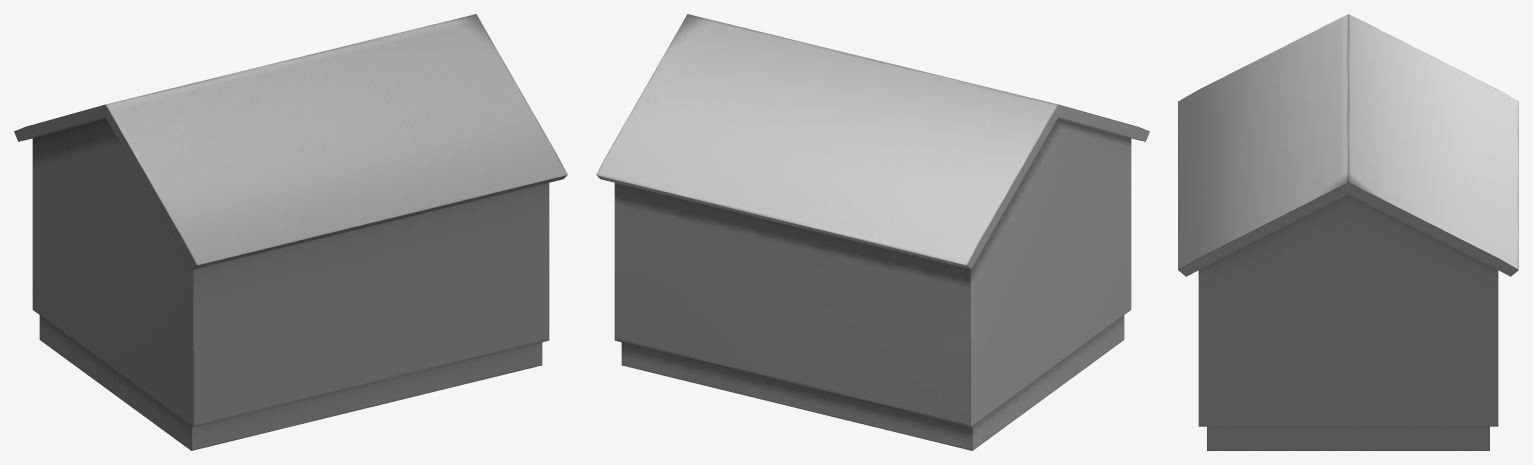
The model's file is GrayBoxHouse.FBX.
3 views of the same model, side by side, from view 1: azimuth 30°, elevation 25°; view 2: azimuth 150°, elevation 25°; view 3: azimuth 270°, elevation 25° (orthographic). The views are drawn at different scales.
Parts seen in each view (by area): view 1: GrayBoxHouseLoPoly; view 2: GrayBoxHouseLoPoly; view 3: GrayBoxHouseLoPoly.
Part boxes in pixels (left/top/right/bottom): GrayBoxHouseLoPoly: left=14, top=14, right=567, bottom=450; GrayBoxHouseLoPoly: left=596, top=14, right=1149, bottom=450; GrayBoxHouseLoPoly: left=1178, top=14, right=1518, bottom=450.
Size of the model in its own units: 758 by 573 by 648.
1 material, 1 textured.
